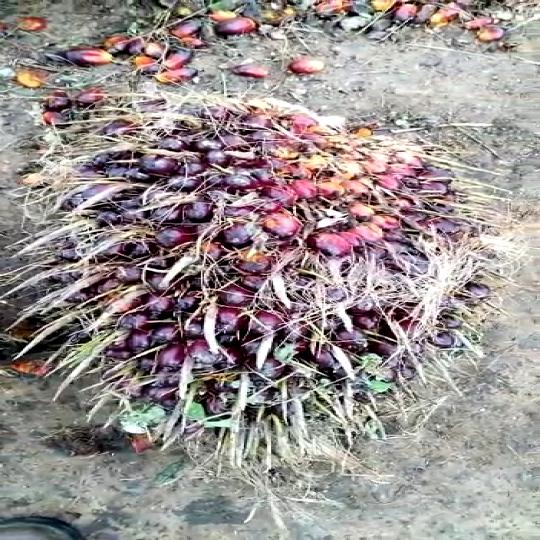kurang masak: (51, 91, 483, 472)
